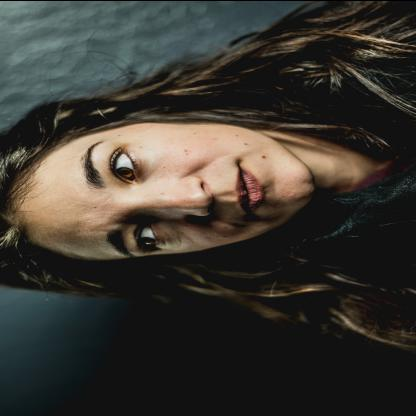Eye: (102, 144, 148, 187), (128, 218, 166, 254)
Mouth: (230, 155, 271, 211)
Nose: (145, 174, 215, 214)
